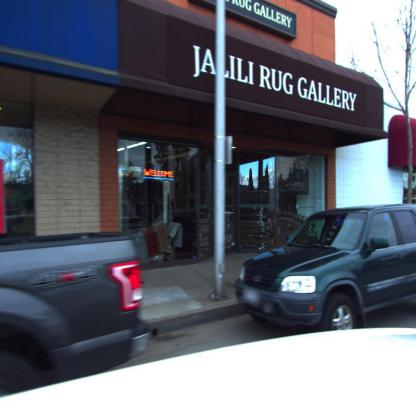car: (1, 232, 154, 404), (235, 204, 416, 331)
